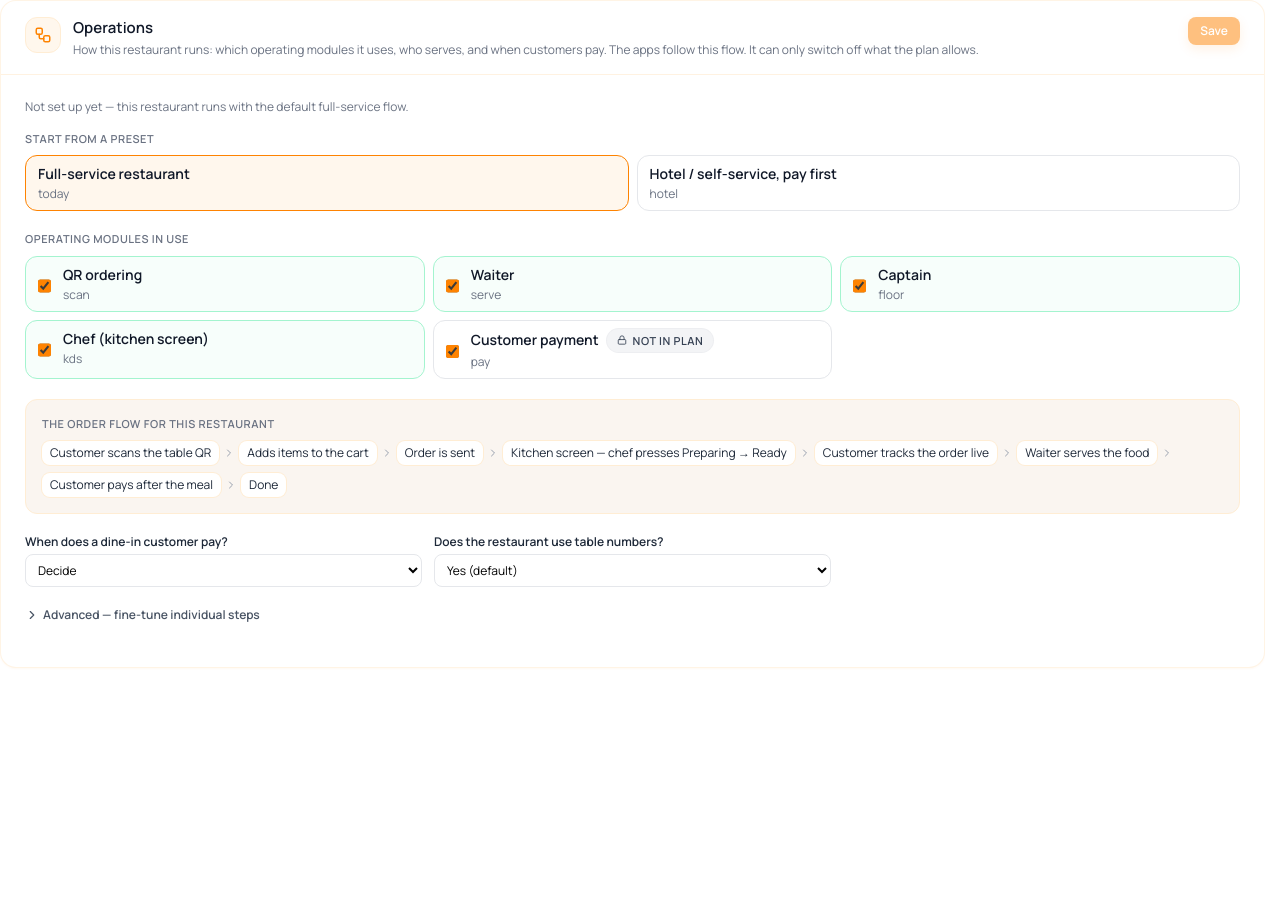
Test: OperationsPanel › validation errors from the preview block saving
This screenshot has width=1280, height=900.
Expected: the element with test id "ops-modules" is shown, top-left (25, 256), bottom-right (1240, 379)
Click the checkbox labelled "Customer payment".
click(452, 351)  # box top-left (446, 332), bottom-right (459, 370)
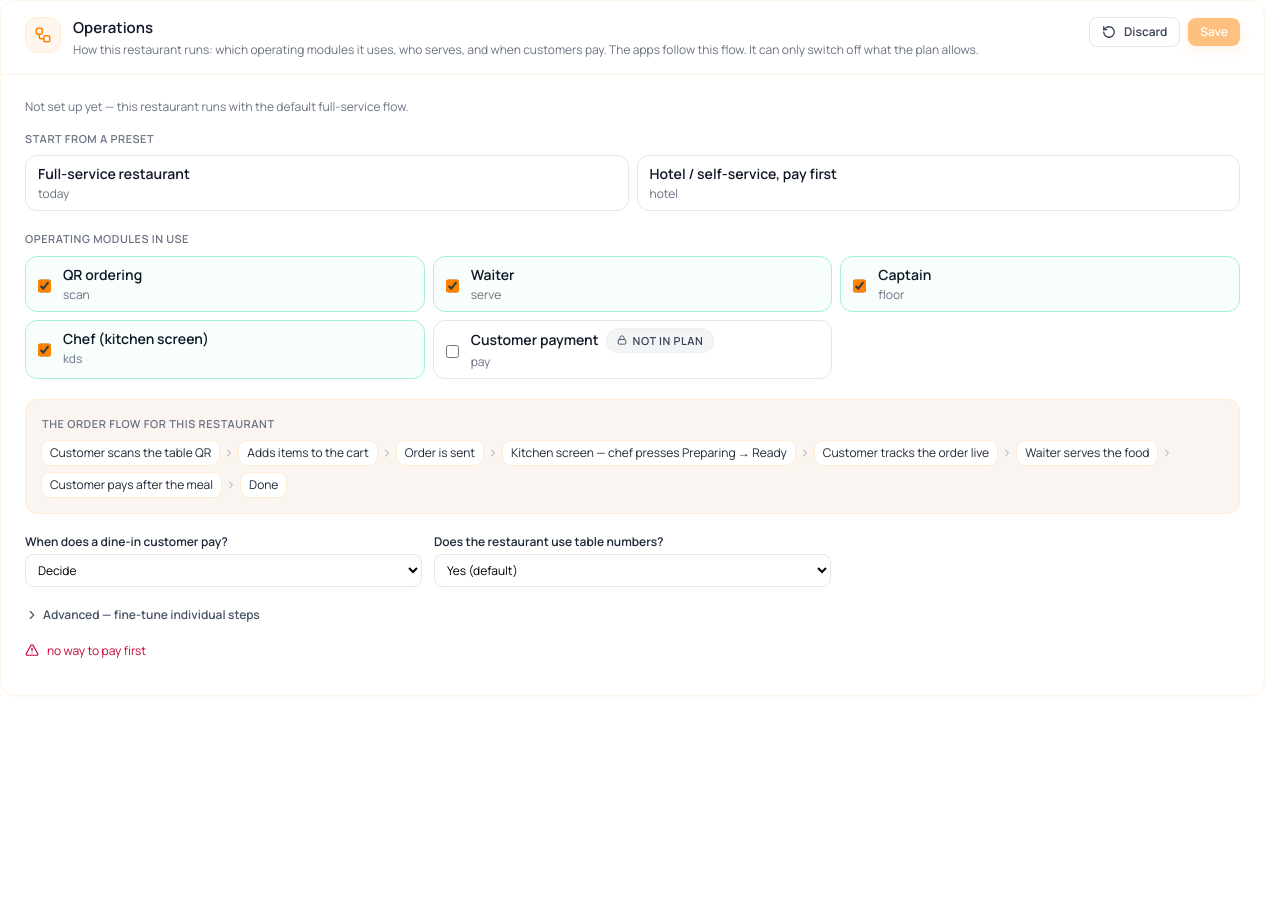
Expected: the button "Save" is disabled, top-left (1188, 18), bottom-right (1240, 46)
Expected: the list with test id "ops-errors" is shown, top-left (25, 642), bottom-right (146, 659)
